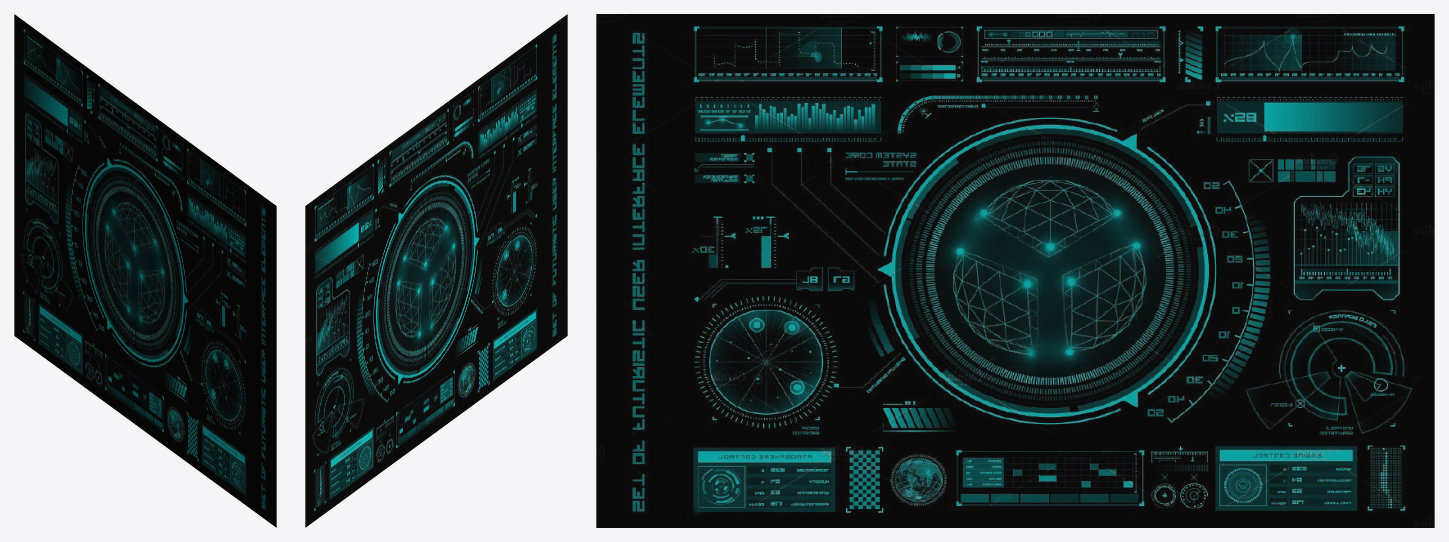
The model's file is CockpitPanel.fbx.
The picture shows the model from 3 angles, left to right: view 1: azimuth 30°, elevation 25°; view 2: azimuth 150°, elevation 25°; view 3: azimuth 270°, elevation 25°; orthographic projection. The views are drawn at different scales.
Visible parts, largest first — view 1: PannelSeperate; view 2: PannelSeperate; view 3: PannelSeperate.
Part boxes in pixels (x1=…): PannelSeperate: x1=14, y1=14, x2=276, y2=527; PannelSeperate: x1=305, y1=14, x2=567, y2=527; PannelSeperate: x1=596, y1=14, x2=1434, y2=527.
Bounding box in the file's own units: 2.22e-16 × 1.35 × 1.99.
Materials: 1 (1 with a texture image).
